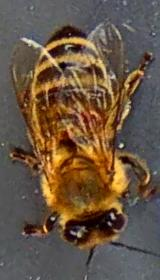varroa_mite: (73, 92, 113, 133)
